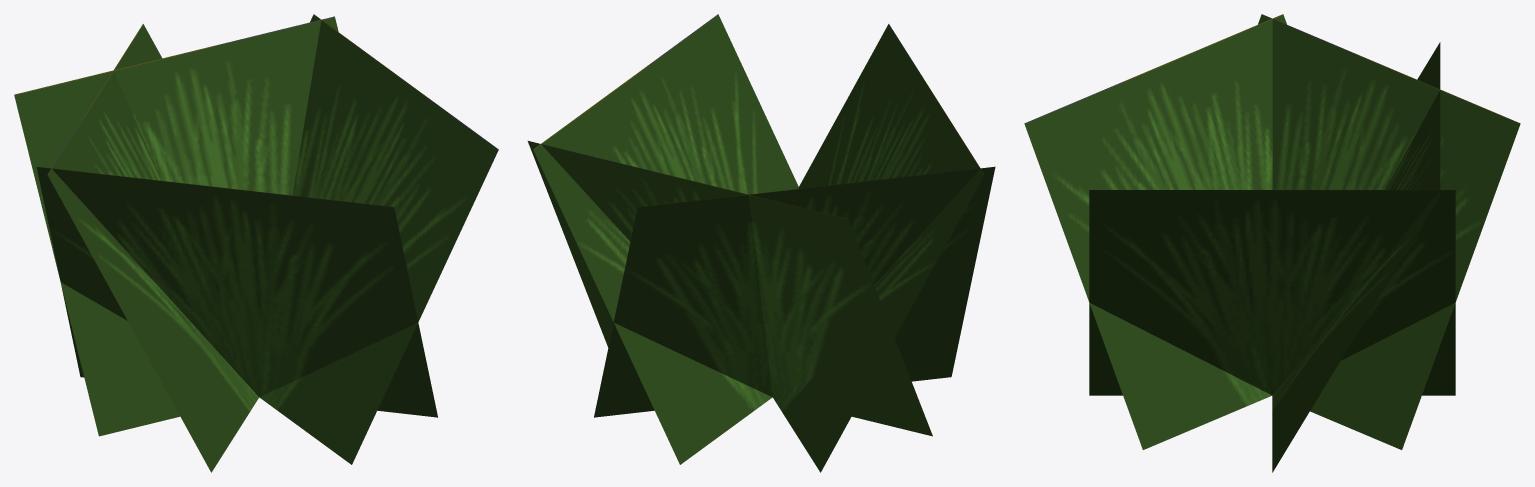
File: gras.glb
3 views of the same model, side by side, from view 1: azimuth 30°, elevation 25°; view 2: azimuth 150°, elevation 25°; view 3: azimuth 270°, elevation 25° (orthographic).
Parts seen in each view (by area): view 1: gras; view 2: gras; view 3: gras.
Part boxes in pixels (<box>): gras: <box>14,14,498,472</box>; gras: <box>527,14,995,472</box>; gras: <box>1024,14,1520,472</box>.
Size of the model in its own units: 1.06 by 0.75 by 1.22.
1 material, 1 textured.
